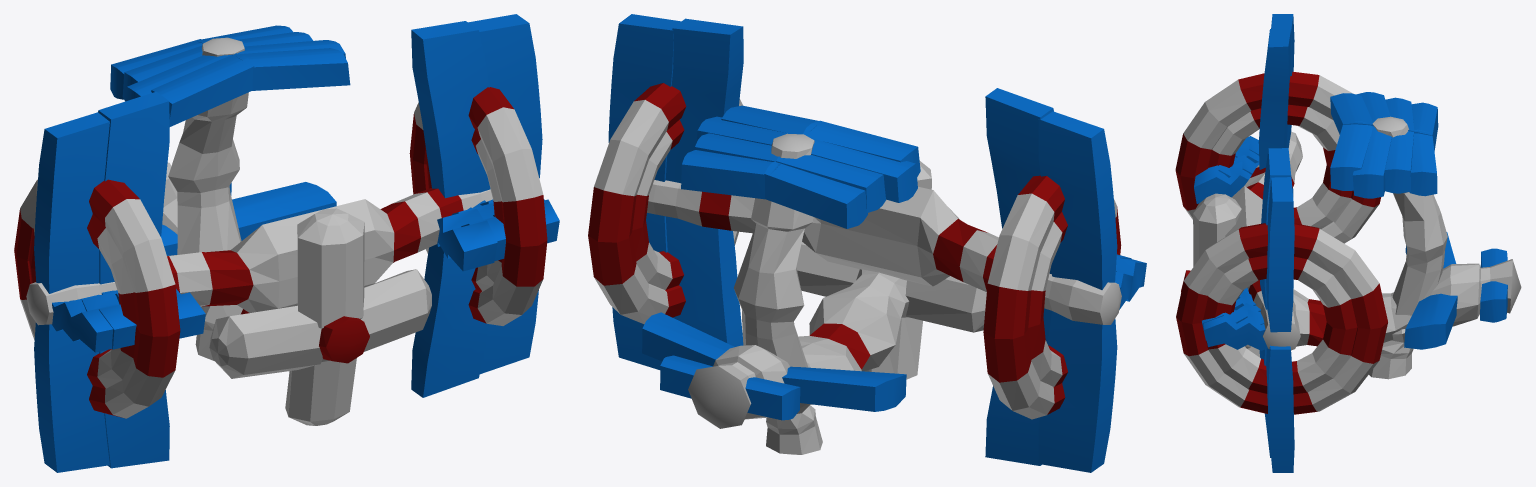
File: ChubbyStation.FBX
3 views of the same model, side by side, from view 1: azimuth 30°, elevation 25°; view 2: azimuth 150°, elevation 25°; view 3: azimuth 270°, elevation 25° (orthographic). The views are drawn at different scales.
Visible parts, largest first — view 1: Box019; view 2: Box019; view 3: Box019.
Boxes of the visible parts, x1,y1,x2,y2 form: Box019: [14, 14, 559, 472]; Box019: [588, 14, 1146, 472]; Box019: [1175, 14, 1521, 472].
Bounding box in the file's own units: 15.62 × 10.72 × 11.47.
